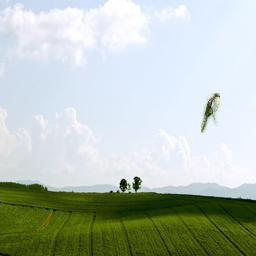Cuckoo: (201, 93, 220, 133)
